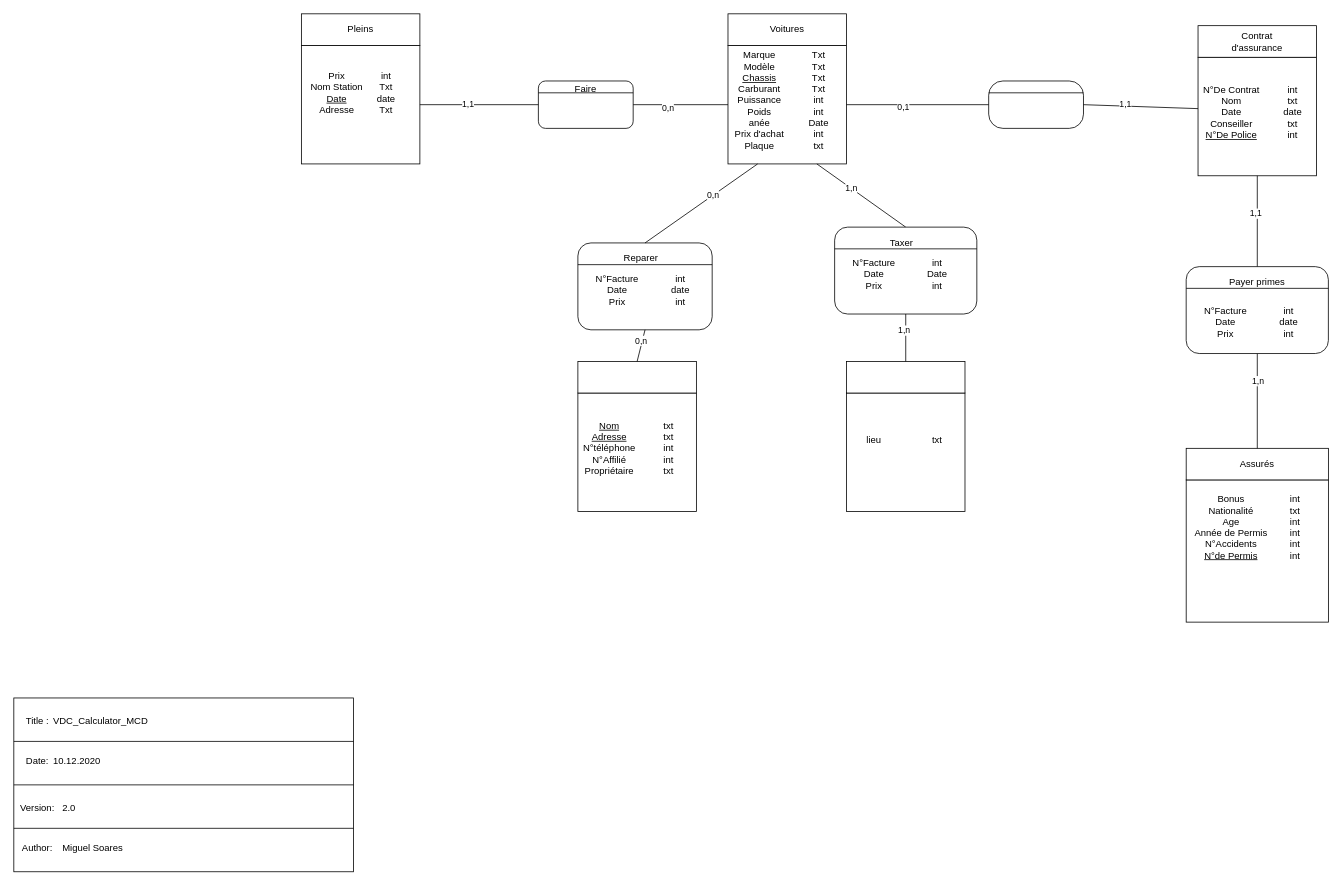
The diagram is 1343 pixels wide and 886 high, and some of its shapes have lost their labels. The shapes that lost their labels are listed below. From the top down, each one's centre as x and y in pixels, then its label:
At (1035,104): "Assurer".
At (636,377): "Garages".
At (905,377): "SAN".
